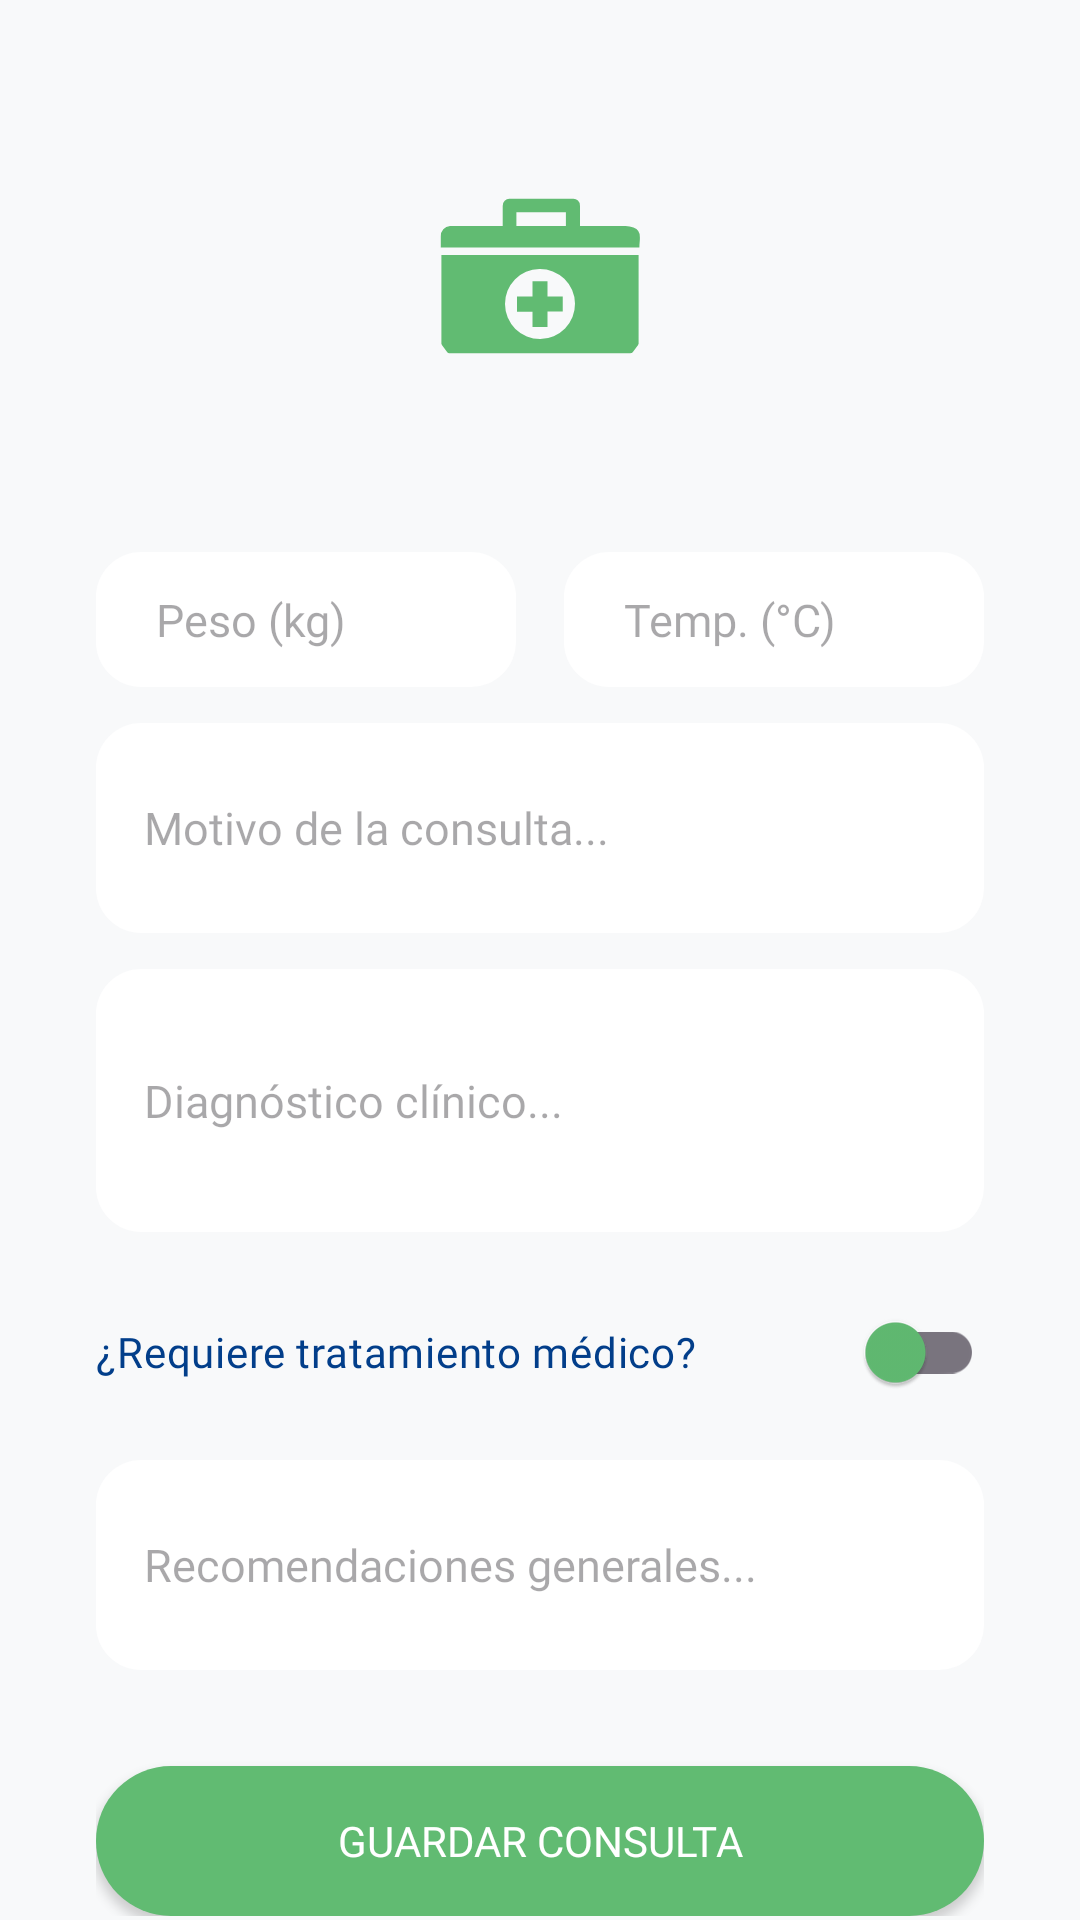

Screen size 1080px x 1920px. Icon name, then its box in pixels as (x1, y1, x2, y2):
medical services: (440, 198, 640, 354)
